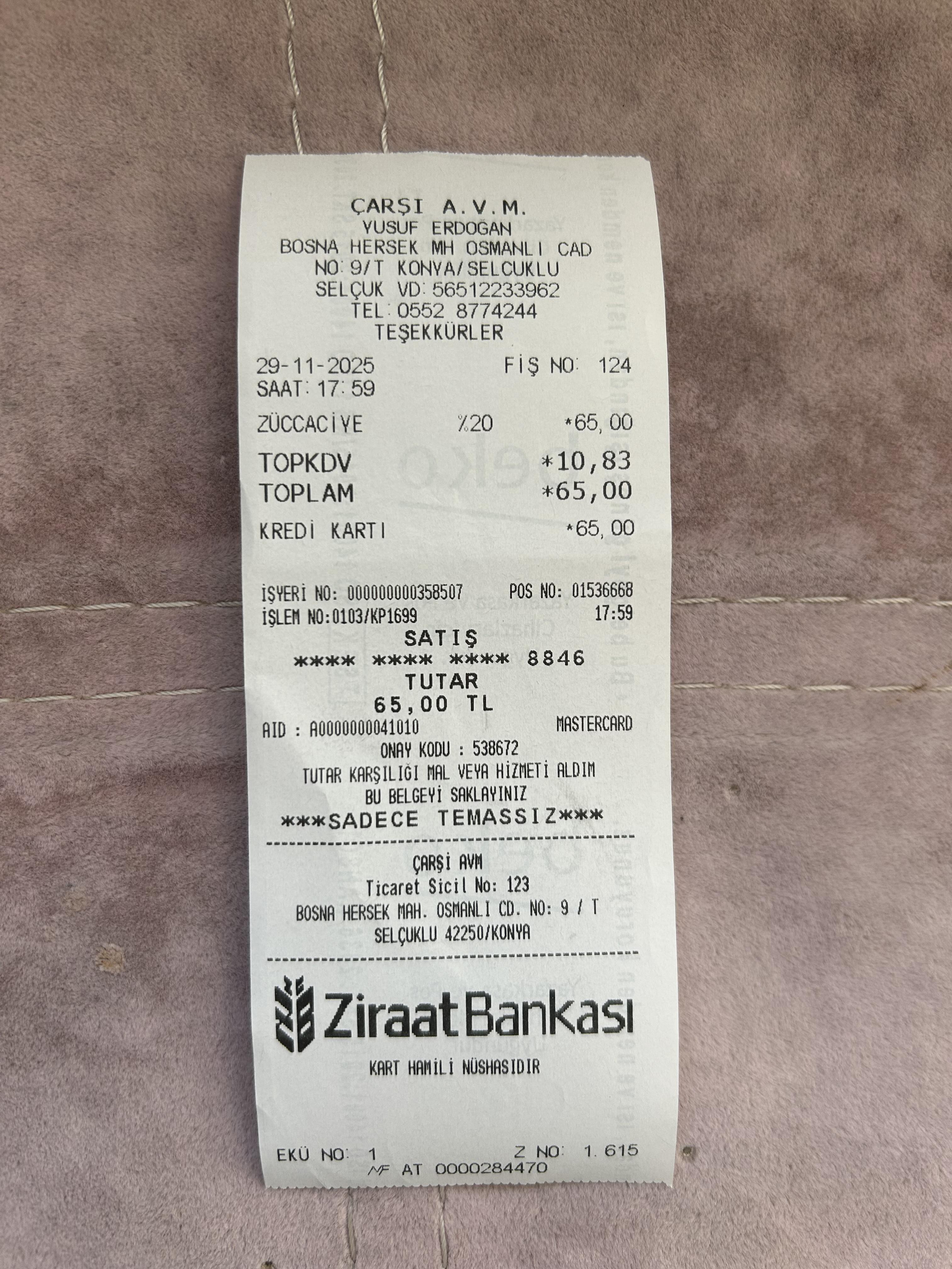date: (249, 350, 379, 376)
price: (551, 474, 642, 507)
workplace: (275, 188, 601, 302)
